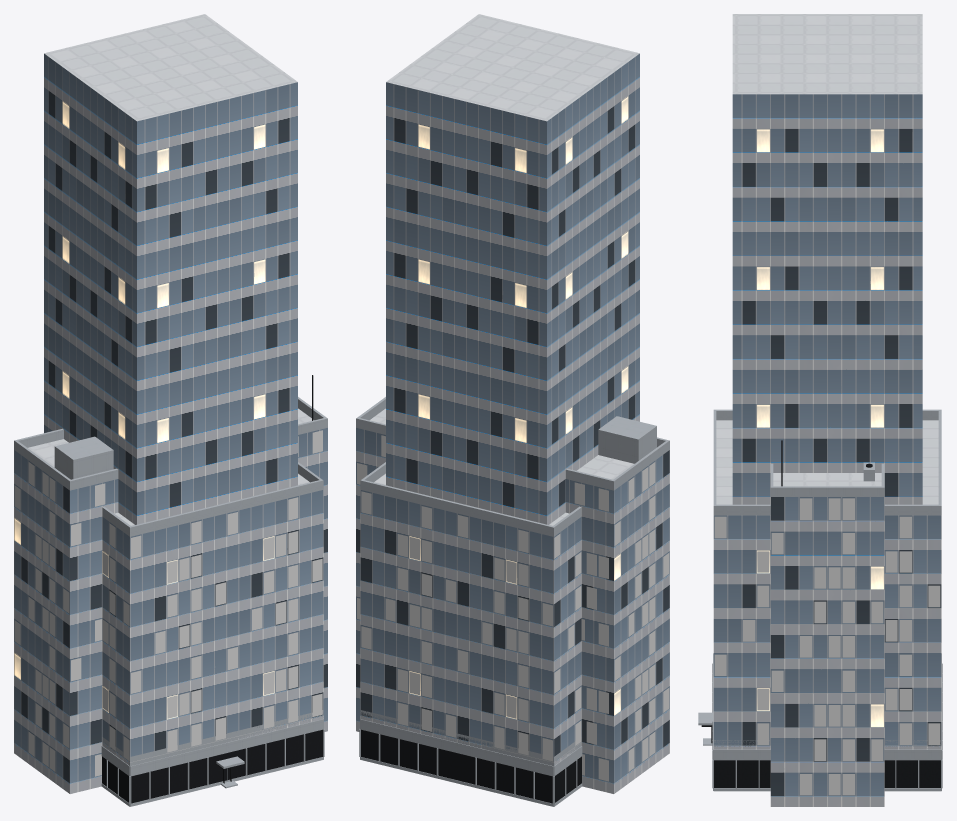
The model's file is SM_City_Rooftops_v1.fbx.
The picture shows the model from 3 angles, left to right: view 1: azimuth 30°, elevation 25°; view 2: azimuth 150°, elevation 25°; view 3: azimuth 270°, elevation 25°; orthographic projection. The views are drawn at different scales.
Parts seen in each view (by area): view 1: SM_BLD_SkyL_v1, SM_BLD_StepD_v1, SM_BLD_SlabB_v1, SM_BLD_Podium_v1, SM_BLD_StepD_v1_WinDusk, SM_BLD_SlabB_v1_WinDusk, SM_BLD_StepD_v1_WinDay, SM_BLD_SlabB_v1_WinDay; view 2: SM_BLD_SkyL_v1, SM_BLD_StepD_v1, SM_BLD_SlabB_v1, SM_BLD_Podium_v1, SM_BLD_StepD_v1_WinDusk, SM_BLD_SlabB_v1_WinDusk, SM_BLD_StepD_v1_WinDay, SM_BLD_SlabB_v1_WinDay; view 3: SM_BLD_SkyL_v1, SM_BLD_SlabB_v1, SM_BLD_StepD_v1, SM_BLD_SlabB_v1_WinDusk, SM_BLD_Podium_v1, SM_BLD_StepD_v1_WinDusk, SM_BLD_SlabB_v1_WinDay, SM_BLD_StepD_v1_WinDay.
Boxes of the visible parts, x1,y1,x2,y2 form: SM_BLD_SkyL_v1: [44, 14, 297, 524]; SM_BLD_StepD_v1: [102, 462, 323, 765]; SM_BLD_SlabB_v1: [14, 375, 327, 793]; SM_BLD_Podium_v1: [101, 710, 324, 806]; SM_BLD_StepD_v1_WinDusk: [102, 497, 322, 760]; SM_BLD_SlabB_v1_WinDusk: [14, 430, 322, 776]; SM_BLD_StepD_v1_WinDay: [102, 513, 323, 762]; SM_BLD_SlabB_v1_WinDay: [14, 451, 327, 783]; SM_BLD_SkyL_v1: [386, 14, 639, 524]; SM_BLD_StepD_v1: [360, 462, 581, 764]; SM_BLD_SlabB_v1: [356, 397, 669, 793]; SM_BLD_Podium_v1: [359, 710, 582, 806]; SM_BLD_StepD_v1_WinDusk: [361, 491, 581, 761]; SM_BLD_SlabB_v1_WinDusk: [357, 435, 669, 781]; SM_BLD_StepD_v1_WinDay: [360, 513, 581, 762]; SM_BLD_SlabB_v1_WinDay: [356, 451, 669, 783]; SM_BLD_SkyL_v1: [732, 14, 922, 504]; SM_BLD_SlabB_v1: [770, 440, 884, 806]; SM_BLD_StepD_v1: [713, 409, 941, 749]; SM_BLD_SlabB_v1_WinDusk: [771, 498, 883, 795]; SM_BLD_Podium_v1: [698, 653, 942, 791]; SM_BLD_StepD_v1_WinDusk: [714, 516, 940, 744]; SM_BLD_SlabB_v1_WinDay: [771, 520, 884, 796]; SM_BLD_StepD_v1_WinDay: [714, 539, 941, 745].
Bounding box in the file's own units: 3201 × 2572 × 8200.
